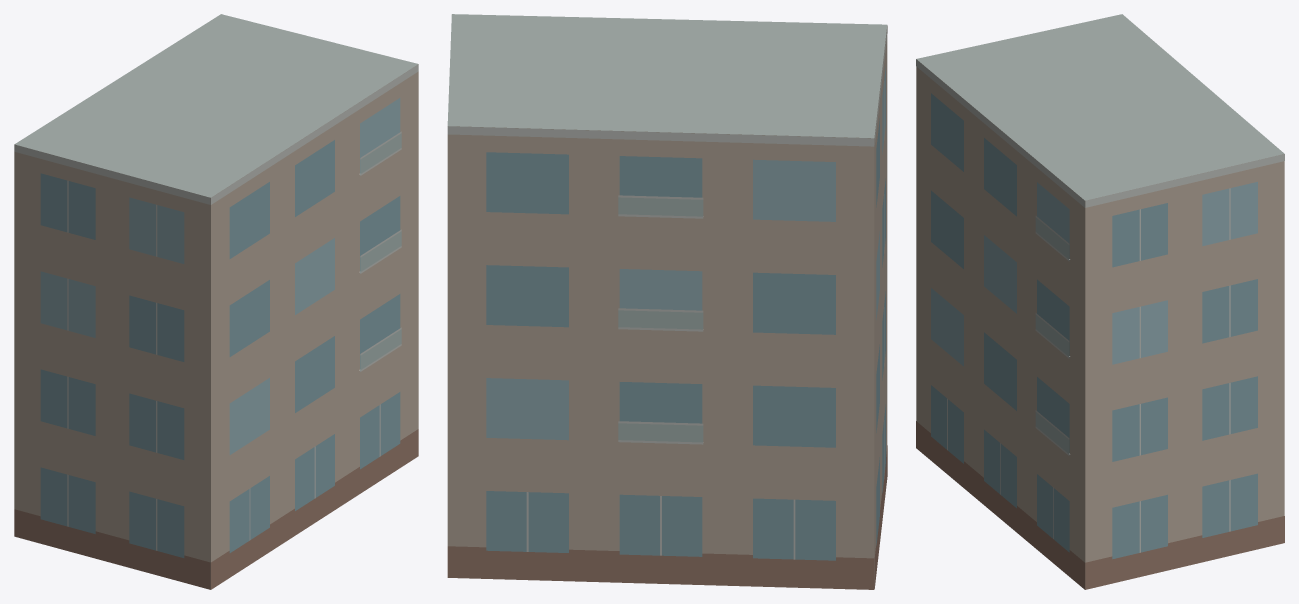
The model's file is survey-upis-32780654.glb.
3 renders of one model, left to right at view 1: azimuth 30°, elevation 25°; view 2: azimuth 150°, elevation 25°; view 3: azimuth 270°, elevation 25°, orthographic. The views are drawn at different scales.
Parts seen in each view (by area): view 1: survey-upis-32780654.tmp; view 2: survey-upis-32780654.tmp; view 3: survey-upis-32780654.tmp.
Boxes of the visible parts, x1,y1,x2,y2 form: survey-upis-32780654.tmp: (14, 14, 418, 589); survey-upis-32780654.tmp: (447, 14, 887, 589); survey-upis-32780654.tmp: (916, 14, 1284, 589).
Bounding box in the file's own units: 13.54 × 13.15 × 11.3.
